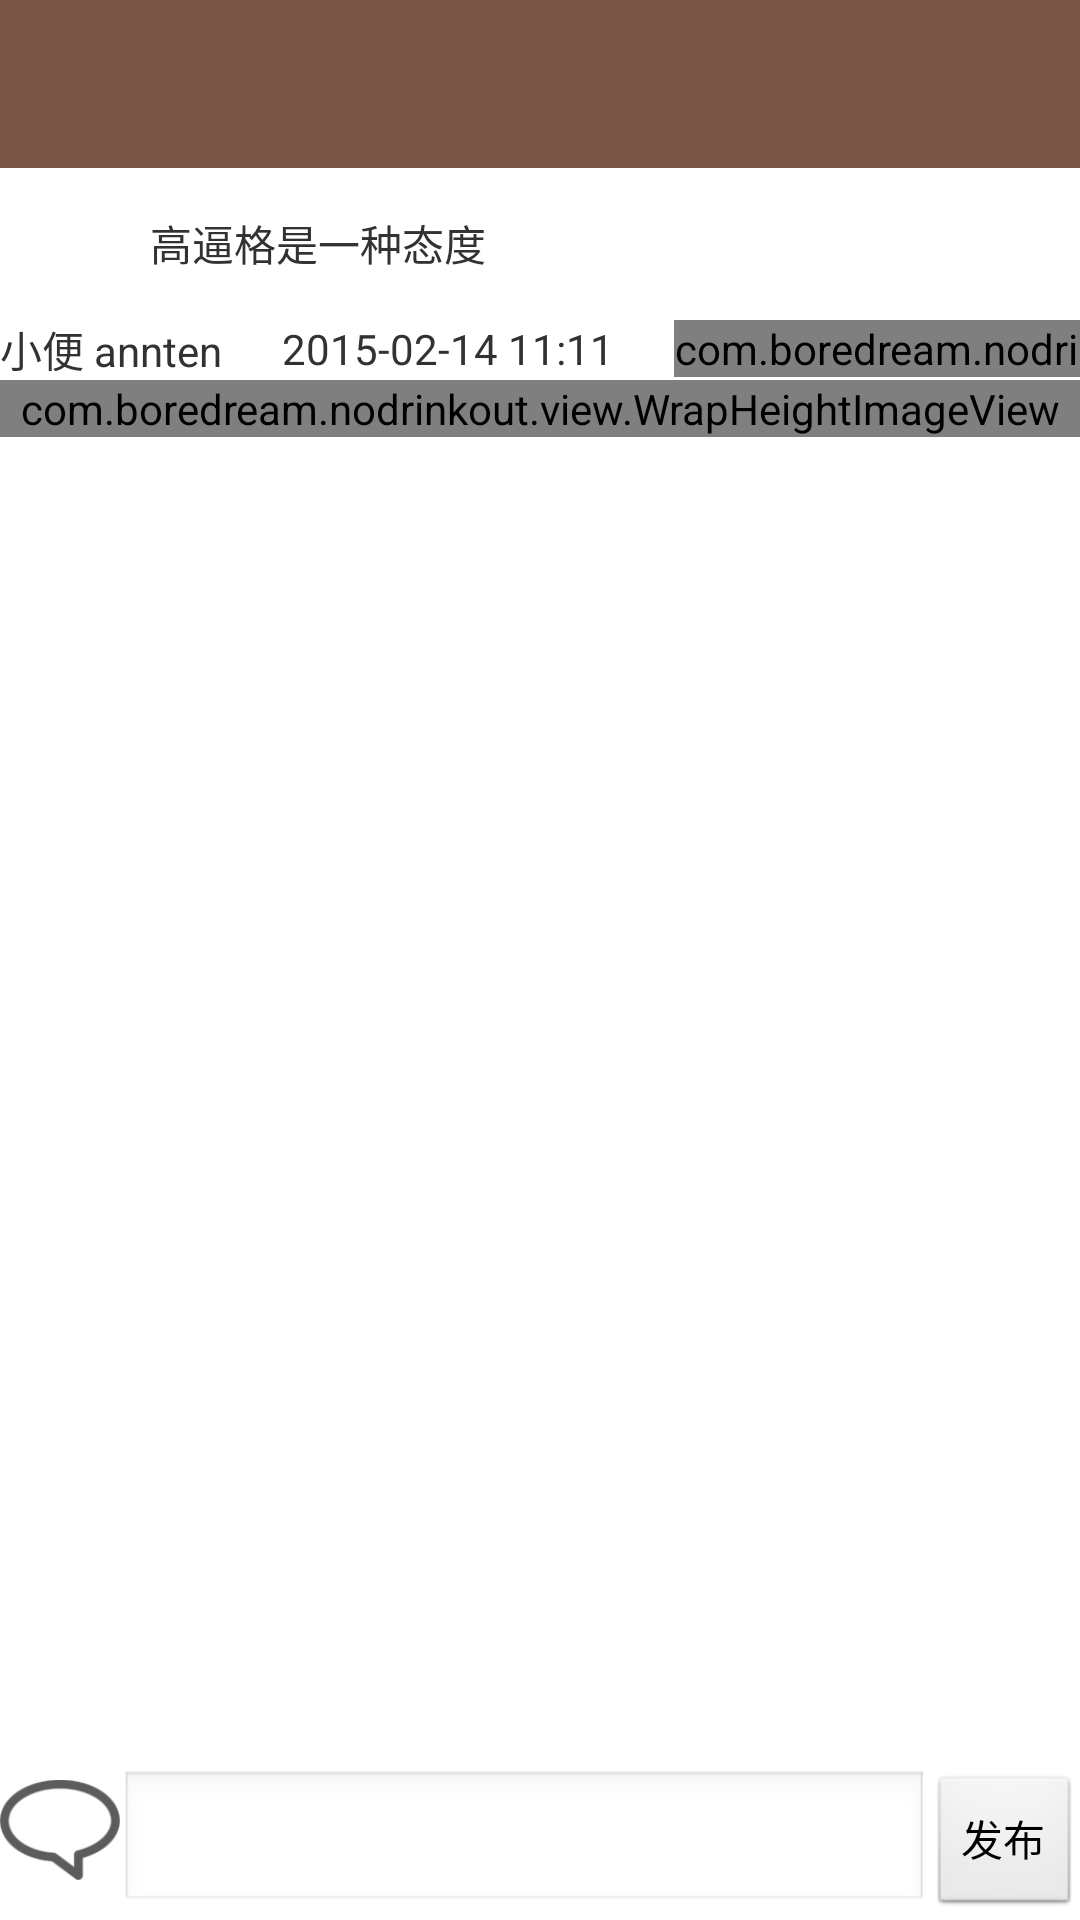

Point at icon controls on the screen. Image size 1080*1920, points as (x=x, y=y).
say: (x=60, y=1830)
